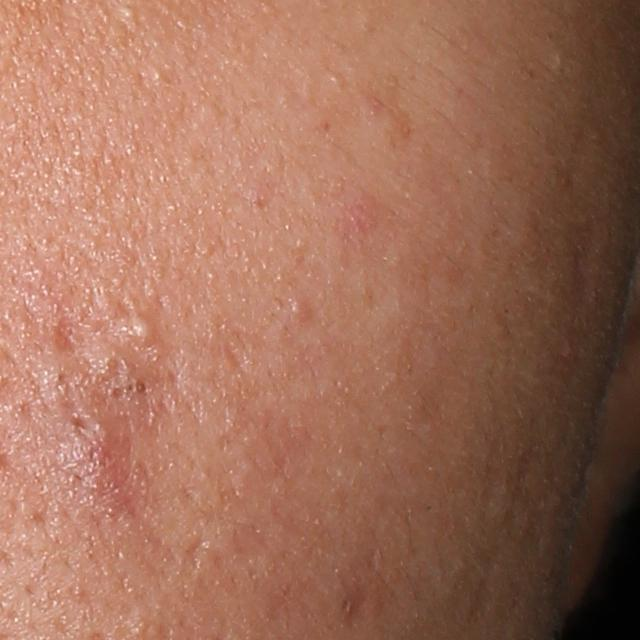atrophic_scar: (571, 218, 595, 305), (180, 536, 208, 576), (52, 317, 80, 353)
comedo: (124, 313, 163, 351), (287, 297, 315, 325), (131, 376, 152, 398), (107, 382, 126, 404), (324, 68, 341, 89), (120, 4, 136, 22)
